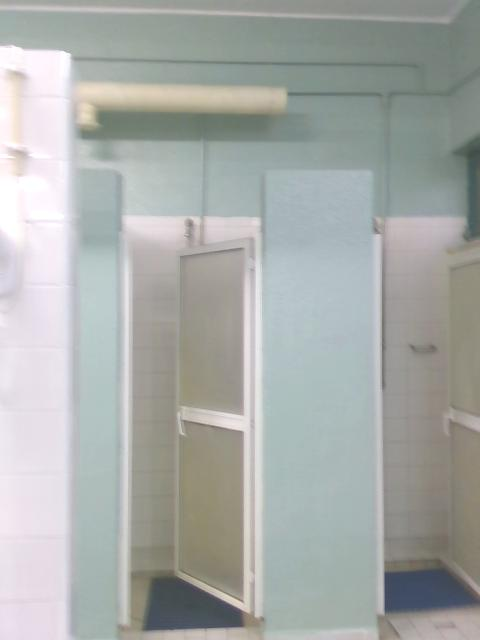semi_door: (120, 216, 268, 631)
